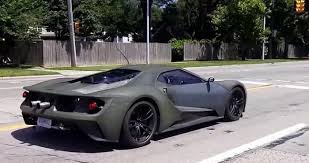car: (20, 65, 248, 145)
